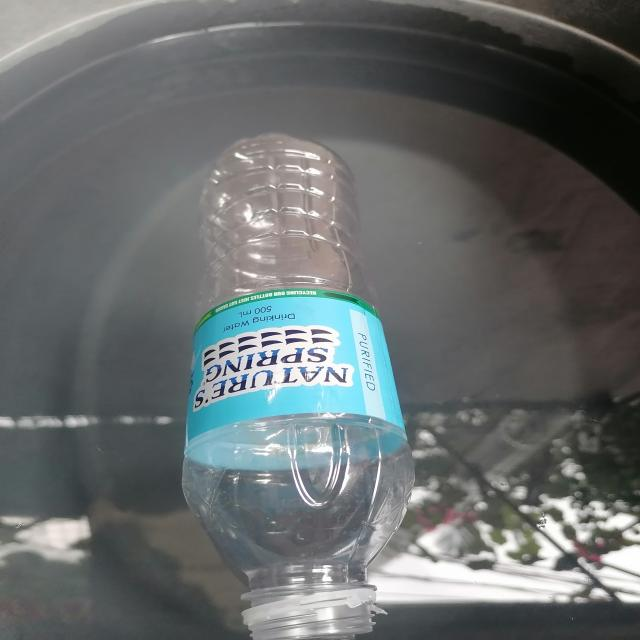Plastic Bottle: (182, 134, 414, 640)
